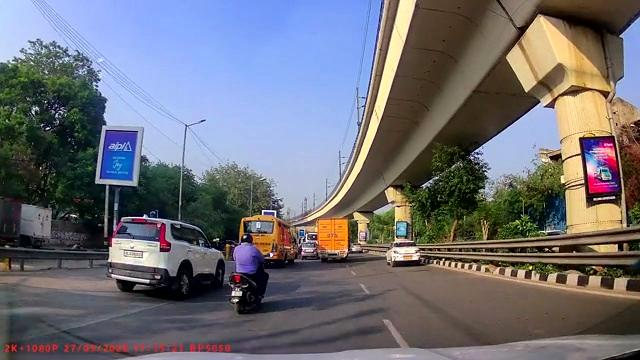motorcycle_with_helmet: (229, 232, 270, 316)
